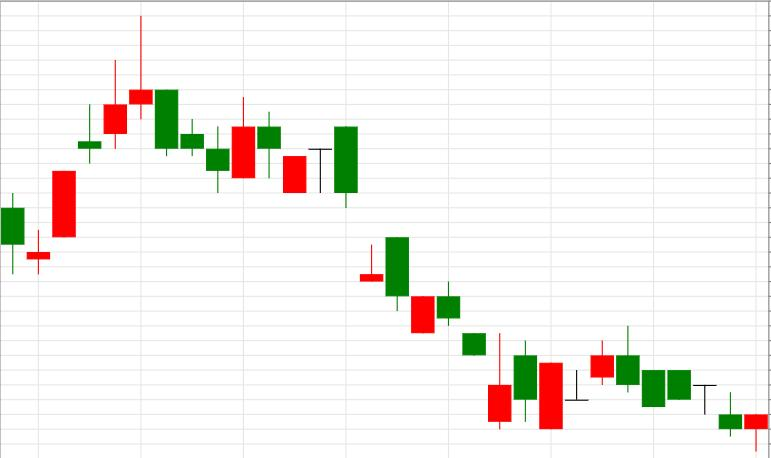inverse_hammer_rise: (334, 126, 512, 430)
shooting_star_fall: (27, 61, 126, 275)
